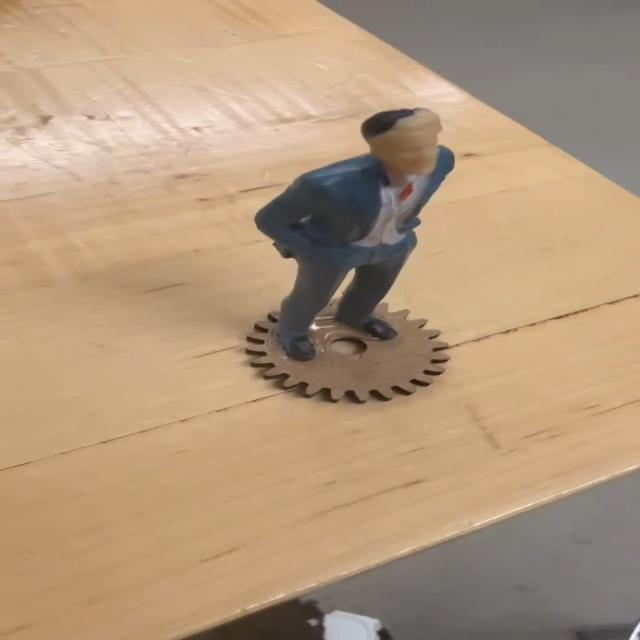Authorized: (236, 104, 466, 370)
